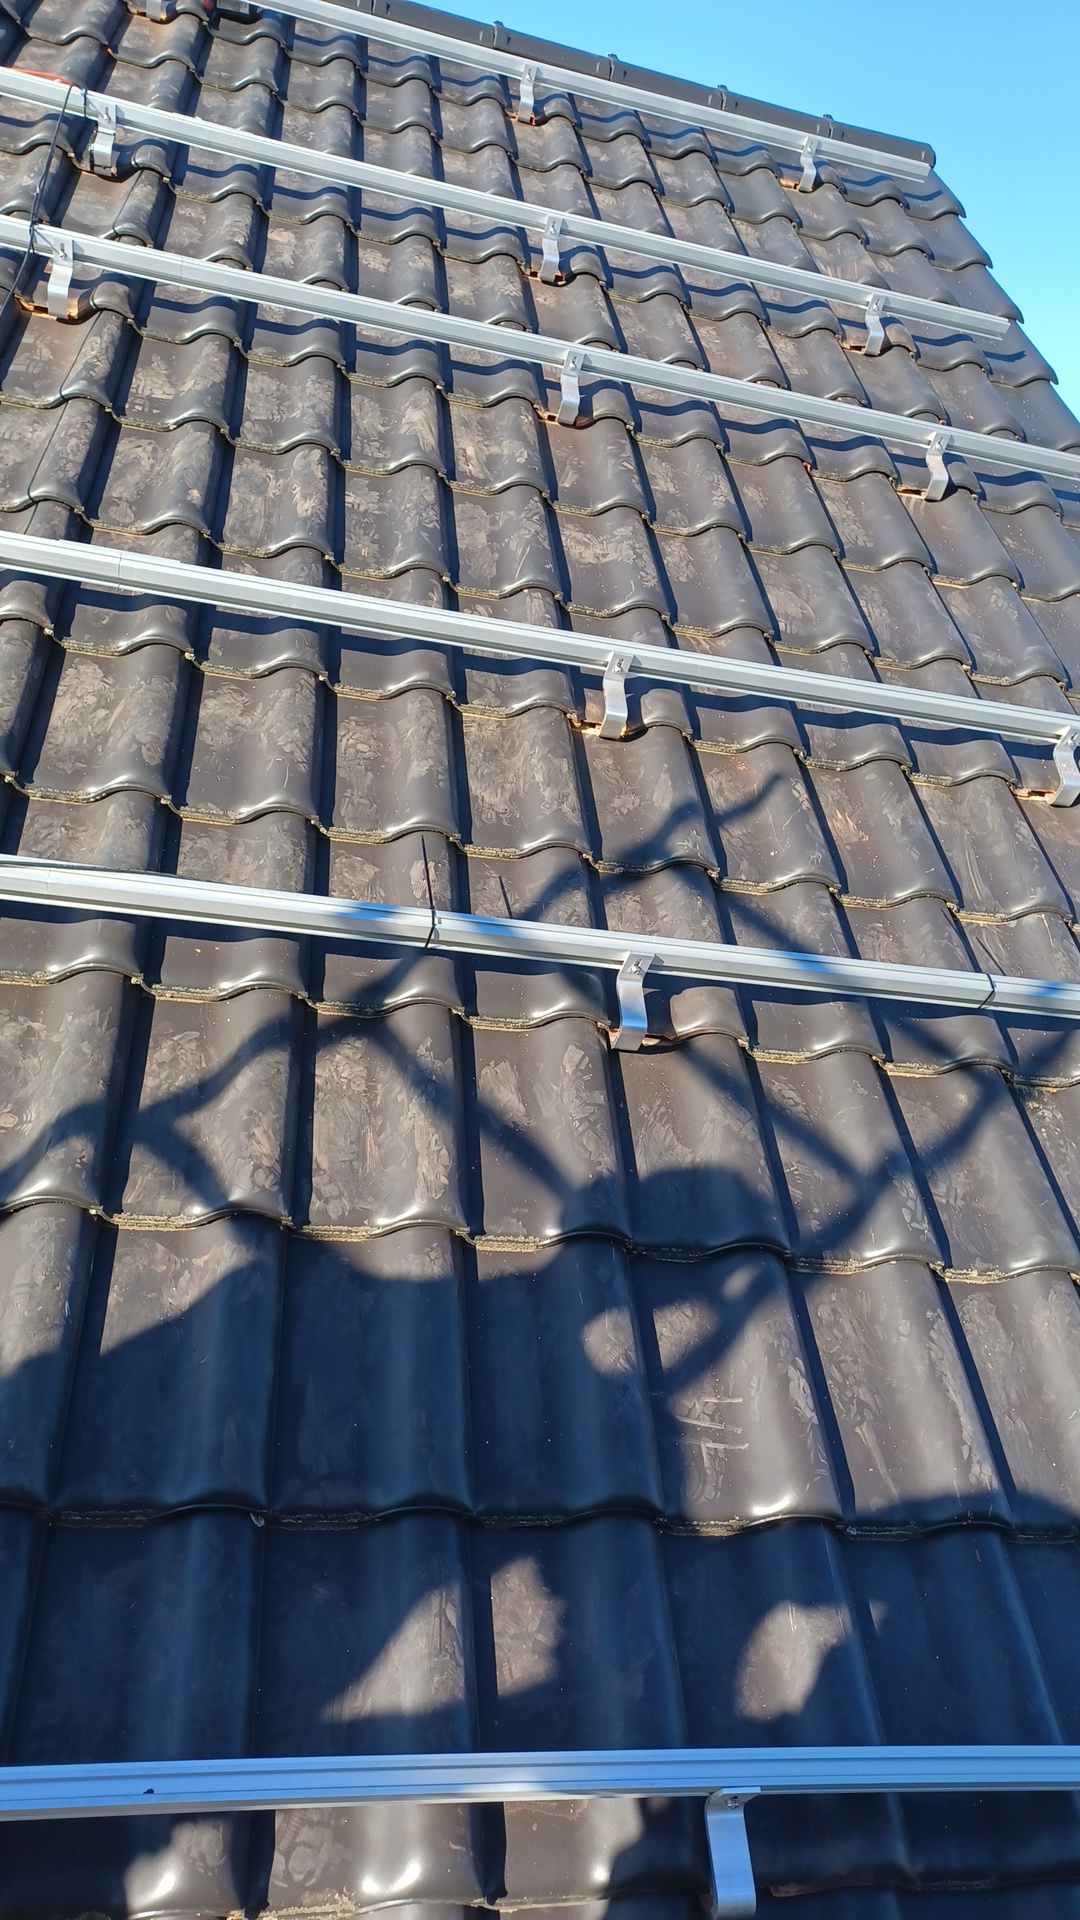hook: (698, 1787, 761, 1920), (609, 949, 655, 1052), (596, 651, 634, 740), (1044, 725, 1080, 806), (555, 349, 585, 425), (920, 431, 952, 501), (47, 237, 74, 320), (94, 100, 121, 175), (537, 214, 564, 284), (860, 291, 885, 356), (796, 136, 820, 193), (516, 63, 538, 123), (146, 1, 165, 22)
